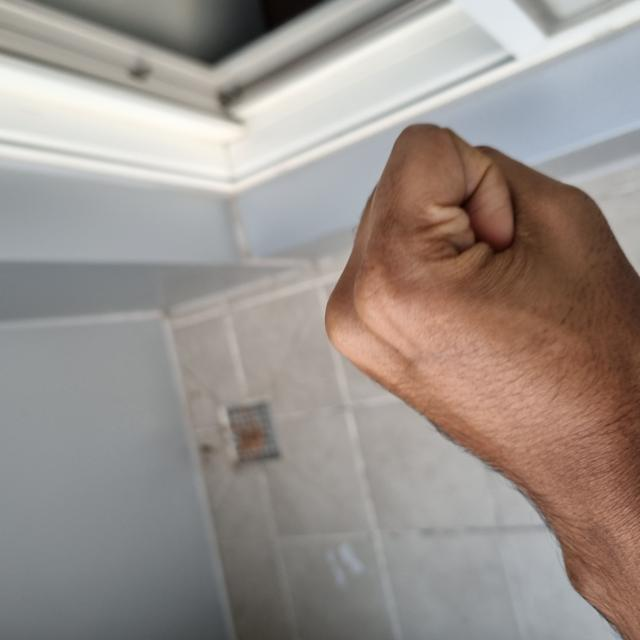Rock: (112, 323, 519, 640)
